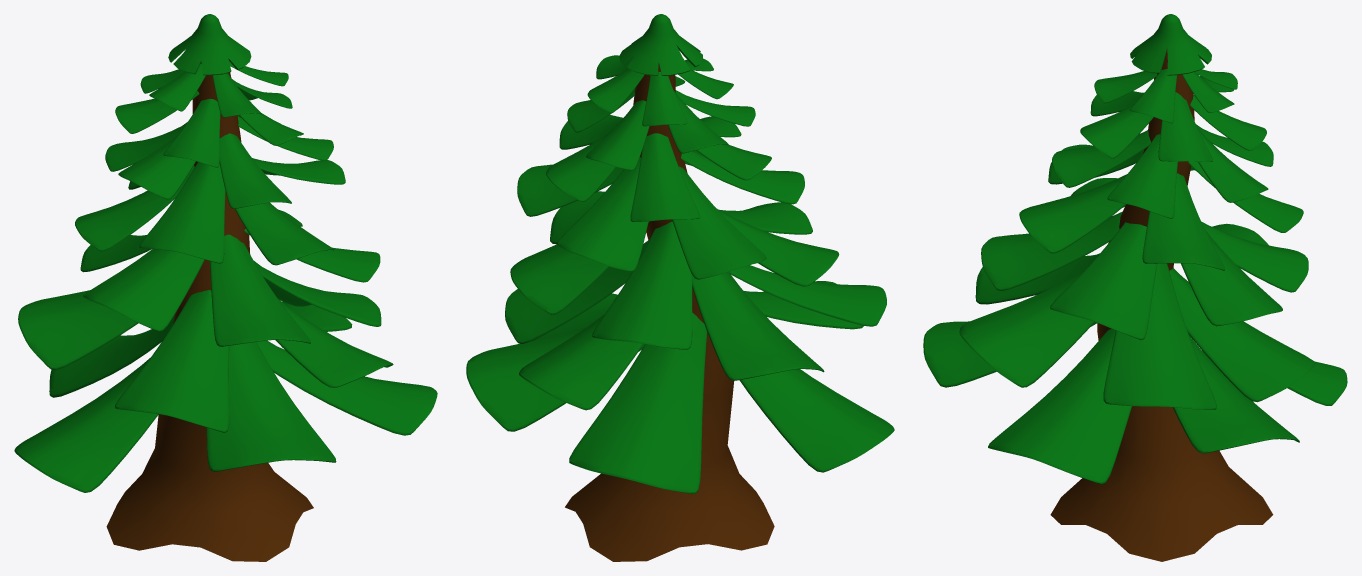
File: tree.fbx
The picture shows the model from 3 angles, left to right: view 1: azimuth 30°, elevation 25°; view 2: azimuth 150°, elevation 25°; view 3: azimuth 270°, elevation 25°; orthographic projection.
Visible parts, largest first — view 1: Tree; view 2: Tree; view 3: Tree.
Part boxes in pixels (bbox=[...]): Tree: bbox=[14, 14, 437, 561]; Tree: bbox=[466, 14, 894, 561]; Tree: bbox=[923, 14, 1347, 561].
Bounding box in the file's own units: 3275 × 4247 × 3255.
